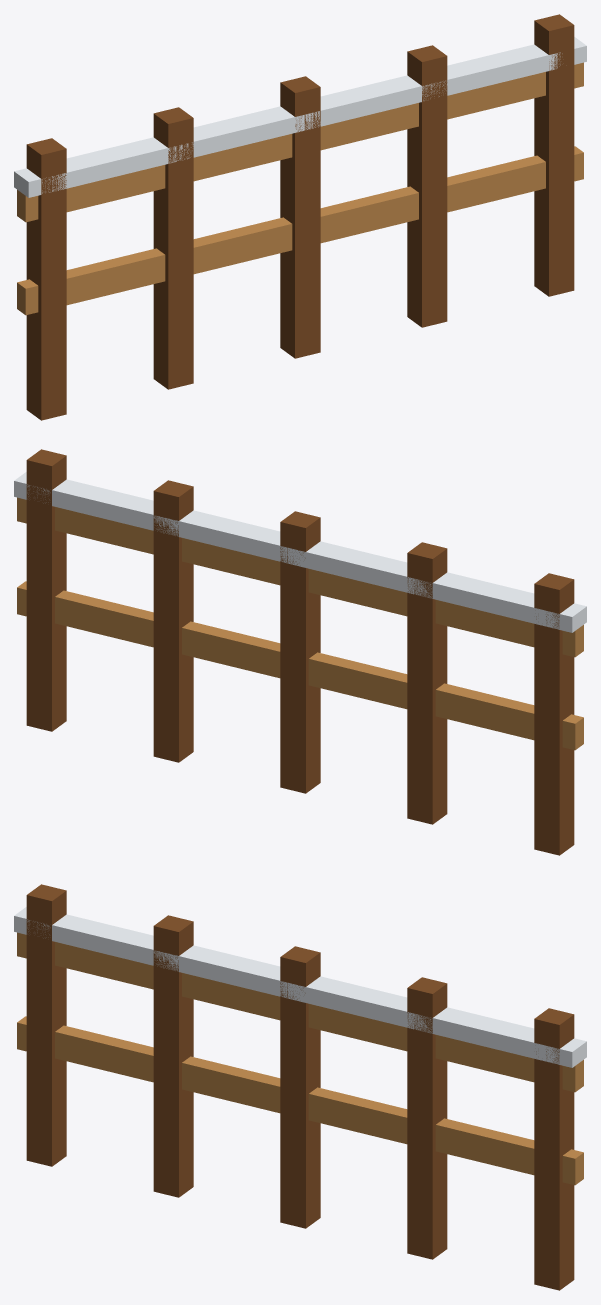
The model's file is fence_snow.glb.
3 renders of one model, top to bottom at view 1: azimuth 30°, elevation 25°; view 2: azimuth 150°, elevation 25°; view 3: azimuth 330°, elevation 25°, orthographic.
Parts seen in each view (by area): view 1: fence_snow; view 2: fence_snow; view 3: fence_snow.
Part boxes in pixels (x1,y1,x2,y2): fence_snow: [14, 14, 586, 420]; fence_snow: [14, 449, 586, 855]; fence_snow: [14, 884, 586, 1290].
Bounding box in the file's own units: 2.2 × 1 × 0.1.
